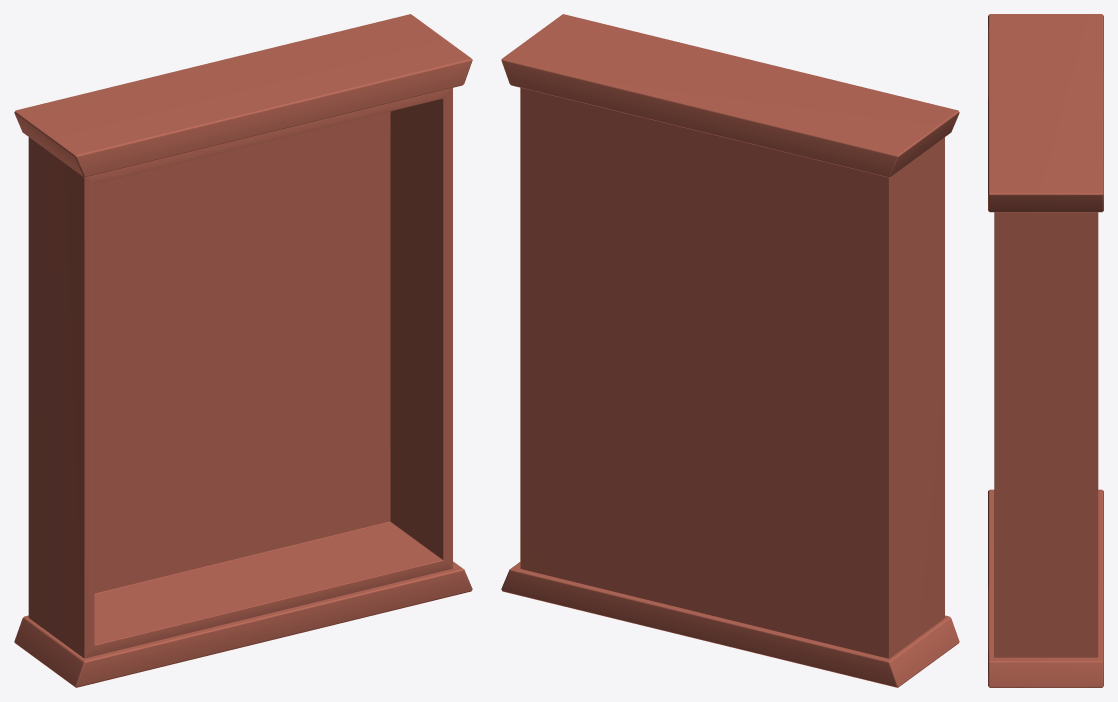
The model's file is bookshelf3.fbx.
The picture shows the model from 3 angles, left to right: view 1: azimuth 30°, elevation 25°; view 2: azimuth 150°, elevation 25°; view 3: azimuth 270°, elevation 25°; orthographic projection. The views are drawn at different scales.
Parts seen in each view (by area): view 1: group35_pCube49; view 2: group35_pCube49; view 3: group35_pCube49.
Boxes of the visible parts, x1,y1,x2,y2 form: group35_pCube49: (14, 14, 472, 687); group35_pCube49: (501, 14, 959, 687); group35_pCube49: (988, 14, 1103, 687).
Size of the model in its own units: 189 by 242 by 51.36.
